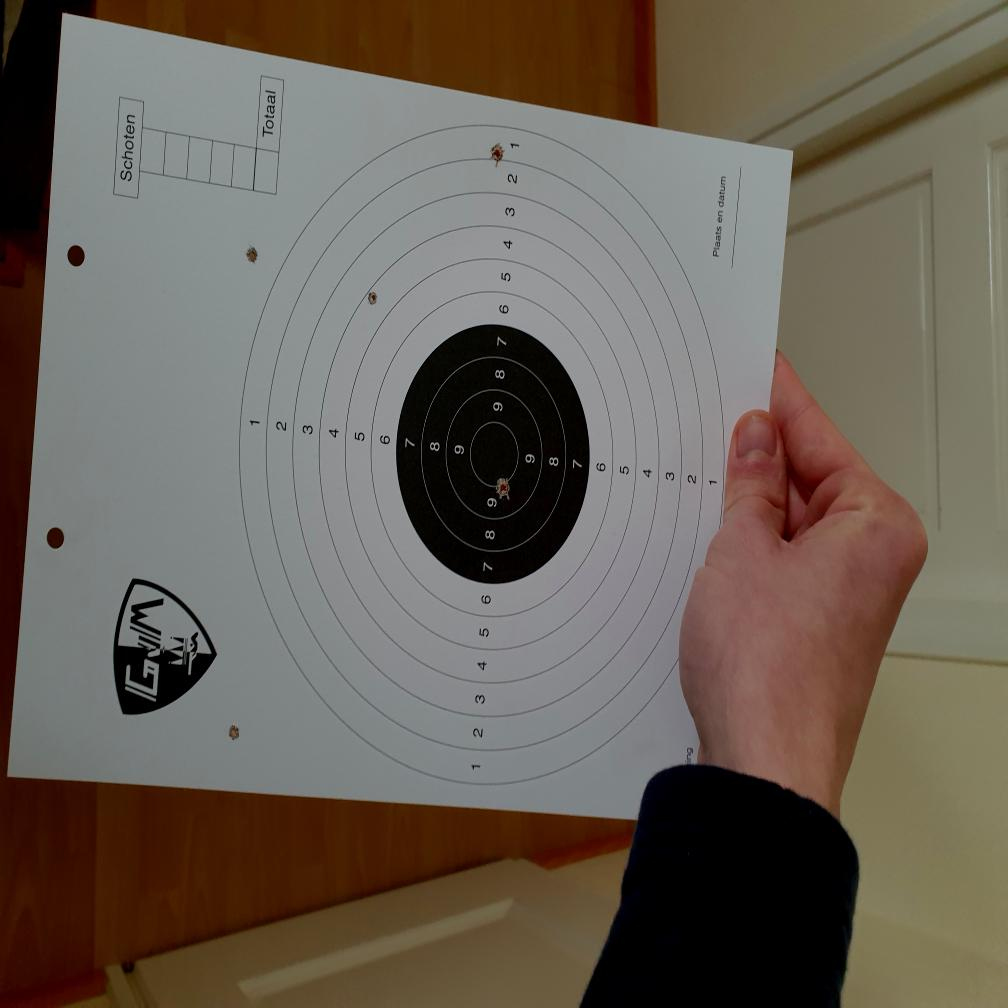0: (226, 722, 243, 743), (245, 245, 258, 265)
10: (495, 478, 511, 500)
2: (488, 143, 505, 169)
4: (366, 291, 378, 307)
Target: (240, 125, 719, 791)
black_contour: (397, 323, 591, 586)
